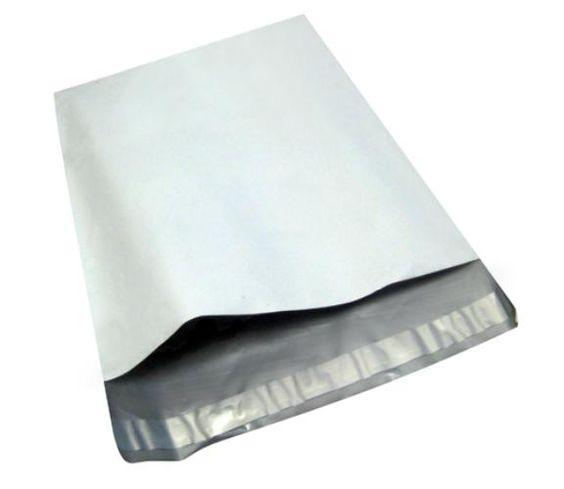LDPE: (55, 16, 518, 465)
